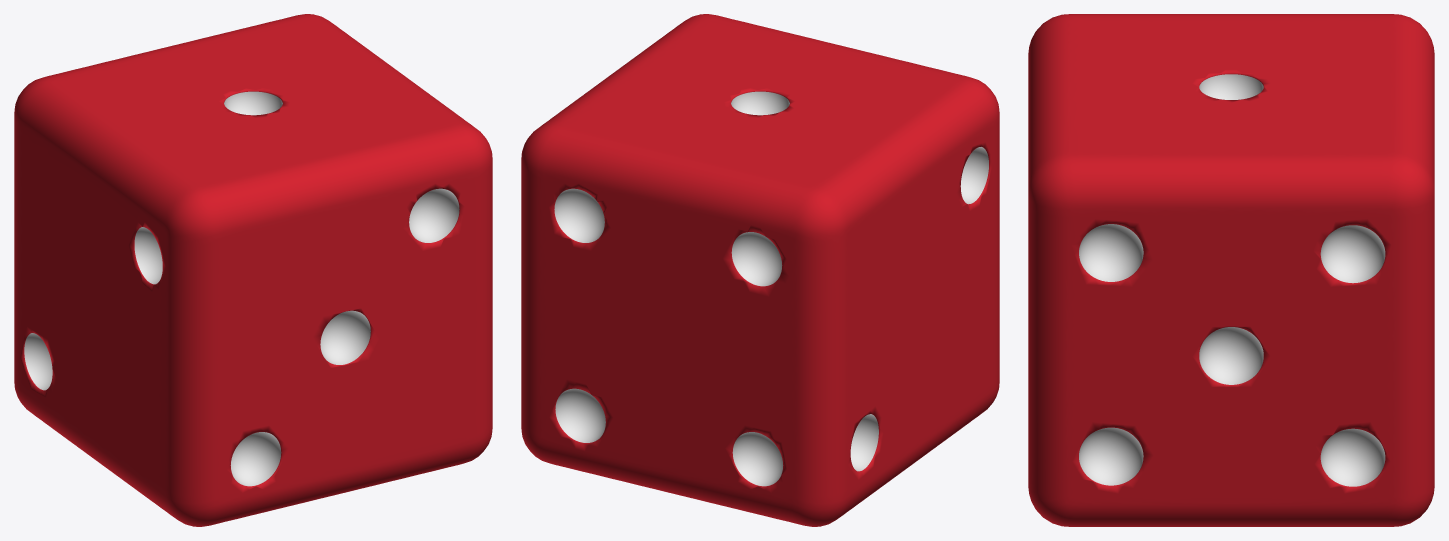
File: dice.glb
The picture shows the model from 3 angles, left to right: view 1: azimuth 30°, elevation 25°; view 2: azimuth 150°, elevation 25°; view 3: azimuth 270°, elevation 25°; orthographic projection. The views are drawn at different scales.
Visible parts, largest first — view 1: Icosphere; view 2: Icosphere; view 3: Icosphere.
Part boxes in pixels (x1=…): Icosphere: x1=14, y1=14, x2=492, y2=526; Icosphere: x1=521, y1=14, x2=999, y2=526; Icosphere: x1=1028, y1=14, x2=1434, y2=526.
Bounding box in the file's own units: 2.5 × 2.5 × 2.5.
